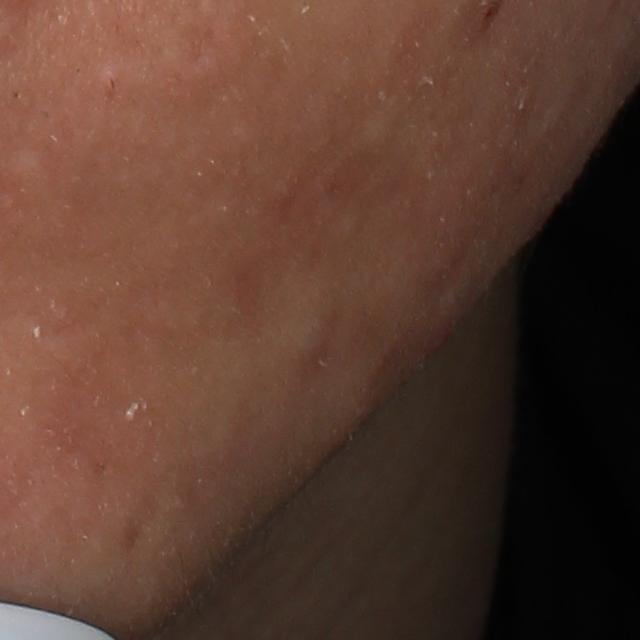comedo: (99, 68, 123, 94)
hypertrophic_scar: (265, 282, 332, 360), (355, 95, 408, 162), (7, 139, 56, 205)
